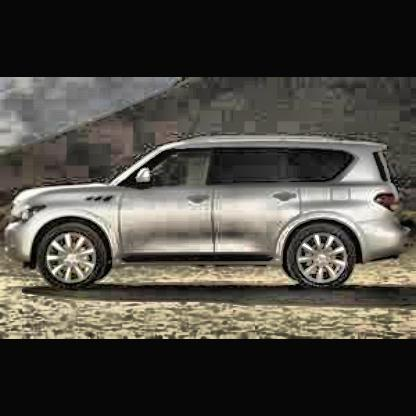Infiniti QX56 SUV 2011: (6, 132, 413, 294)
